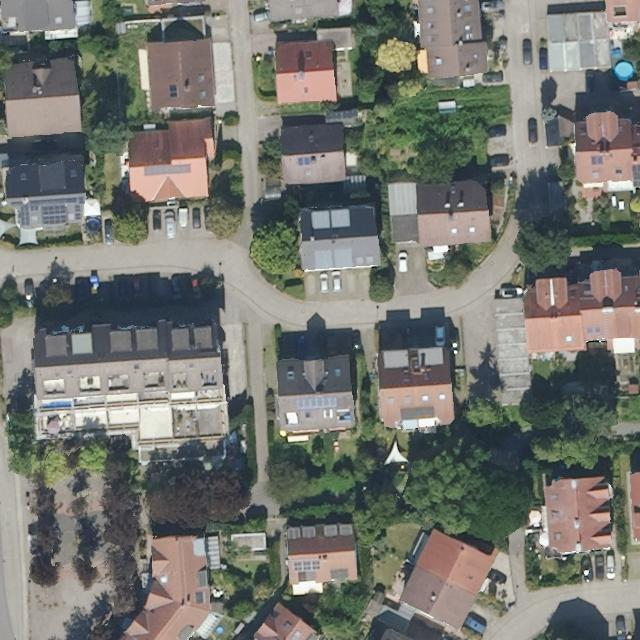PV: (9, 194, 88, 208), (142, 161, 195, 177), (40, 202, 70, 225), (295, 395, 339, 409), (292, 557, 322, 573), (17, 206, 32, 227), (72, 202, 84, 222), (295, 155, 312, 167), (590, 154, 605, 166)
